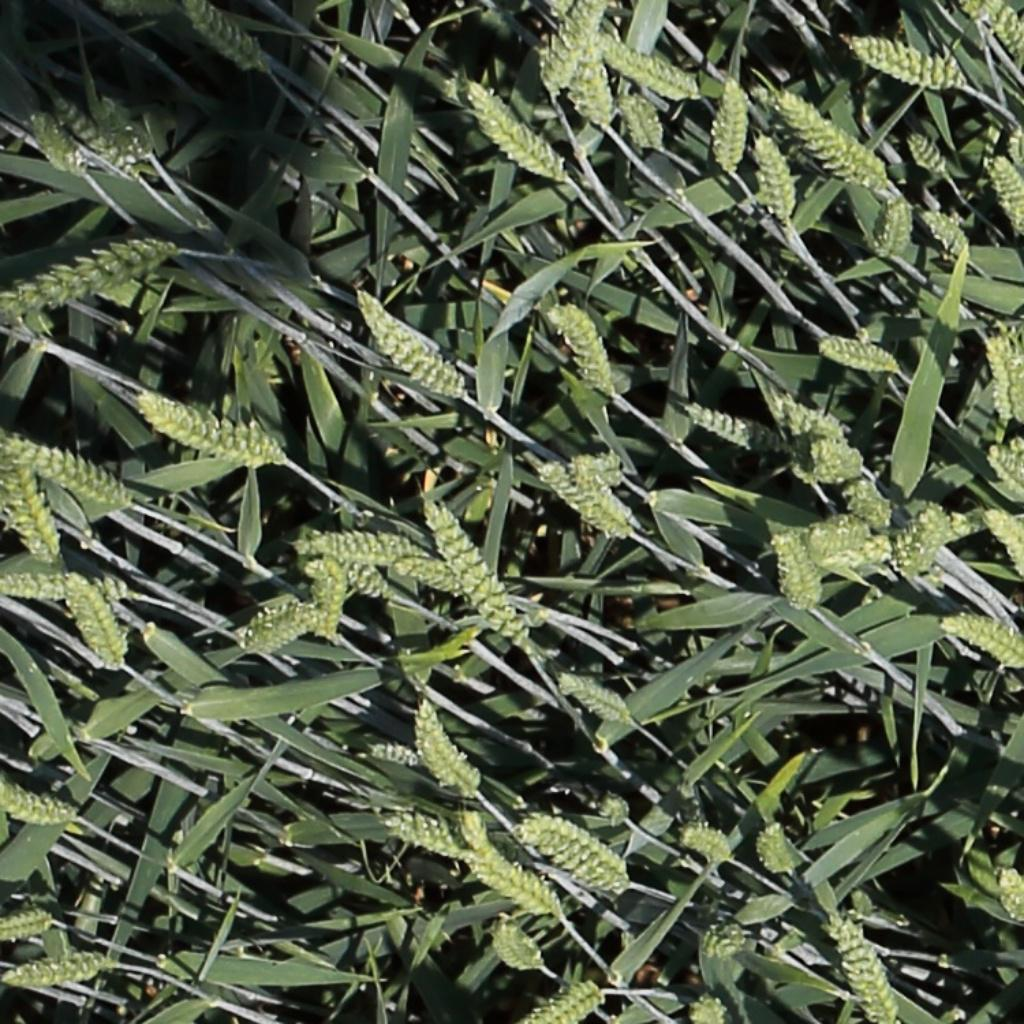0-0: (1, 229, 182, 328), (423, 497, 532, 651), (772, 91, 895, 195), (133, 388, 289, 468), (817, 504, 994, 567), (0, 435, 133, 512), (469, 80, 569, 179), (516, 813, 633, 896), (553, 0, 624, 126), (823, 913, 903, 1024), (355, 288, 460, 367), (535, 0, 611, 104), (54, 98, 137, 190), (453, 846, 563, 915), (412, 699, 482, 800), (840, 35, 965, 91), (544, 299, 615, 397), (369, 328, 465, 400), (535, 458, 622, 537), (601, 33, 701, 101), (180, 0, 269, 71), (64, 571, 130, 665), (291, 523, 432, 567), (0, 469, 64, 565), (238, 598, 334, 656), (681, 402, 786, 454), (941, 608, 1024, 672), (0, 566, 136, 605), (301, 549, 358, 641), (767, 526, 826, 613), (565, 458, 633, 532), (300, 552, 400, 600), (752, 129, 802, 223), (711, 75, 754, 178), (894, 505, 952, 581), (89, 94, 154, 160), (680, 527, 728, 616), (518, 978, 610, 1024), (15, 109, 77, 177), (4, 950, 109, 988), (0, 779, 79, 829), (841, 479, 891, 554), (558, 674, 630, 726), (379, 813, 460, 858), (917, 202, 973, 267), (969, 0, 1023, 65), (987, 148, 1024, 241), (977, 330, 1011, 425), (393, 555, 467, 598), (816, 335, 899, 372), (619, 91, 665, 154), (806, 439, 868, 484), (453, 808, 505, 861), (753, 818, 798, 879), (875, 193, 913, 264), (983, 509, 1023, 576), (488, 925, 545, 972), (901, 124, 950, 177), (678, 822, 737, 866), (988, 437, 1024, 493), (360, 737, 419, 771), (591, 785, 636, 828), (1, 908, 58, 941), (702, 921, 749, 961), (439, 66, 477, 113), (995, 865, 1024, 925), (803, 405, 850, 441), (776, 393, 812, 439), (1006, 351, 1024, 424), (1007, 120, 1024, 180), (688, 995, 723, 1024)
